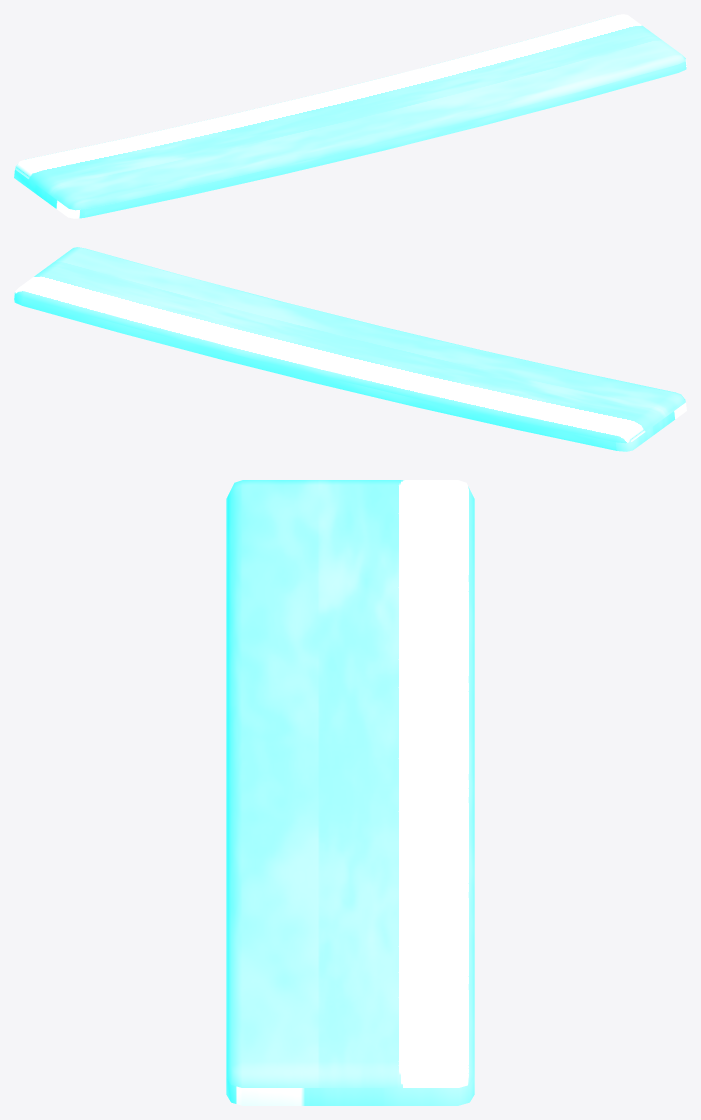
Rendered from HPGaugeBase.fbx.
3 renders of one model, top to bottom at view 1: azimuth 30°, elevation 25°; view 2: azimuth 150°, elevation 25°; view 3: azimuth 270°, elevation 25°, orthographic. The views are drawn at different scales.
Parts seen in each view (by area): view 1: LOD_1_Group_0_Sub_3__HPgauge; view 2: LOD_1_Group_0_Sub_3__HPgauge; view 3: LOD_1_Group_0_Sub_3__HPgauge.
Part boxes in pixels (<box>): LOD_1_Group_0_Sub_3__HPgauge: <box>14,14,686,218</box>; LOD_1_Group_0_Sub_3__HPgauge: <box>14,247,686,451</box>; LOD_1_Group_0_Sub_3__HPgauge: <box>226,480,474,1105</box>.
Size of the model in its own units: 73.7 by 2.44 by 12.79.
